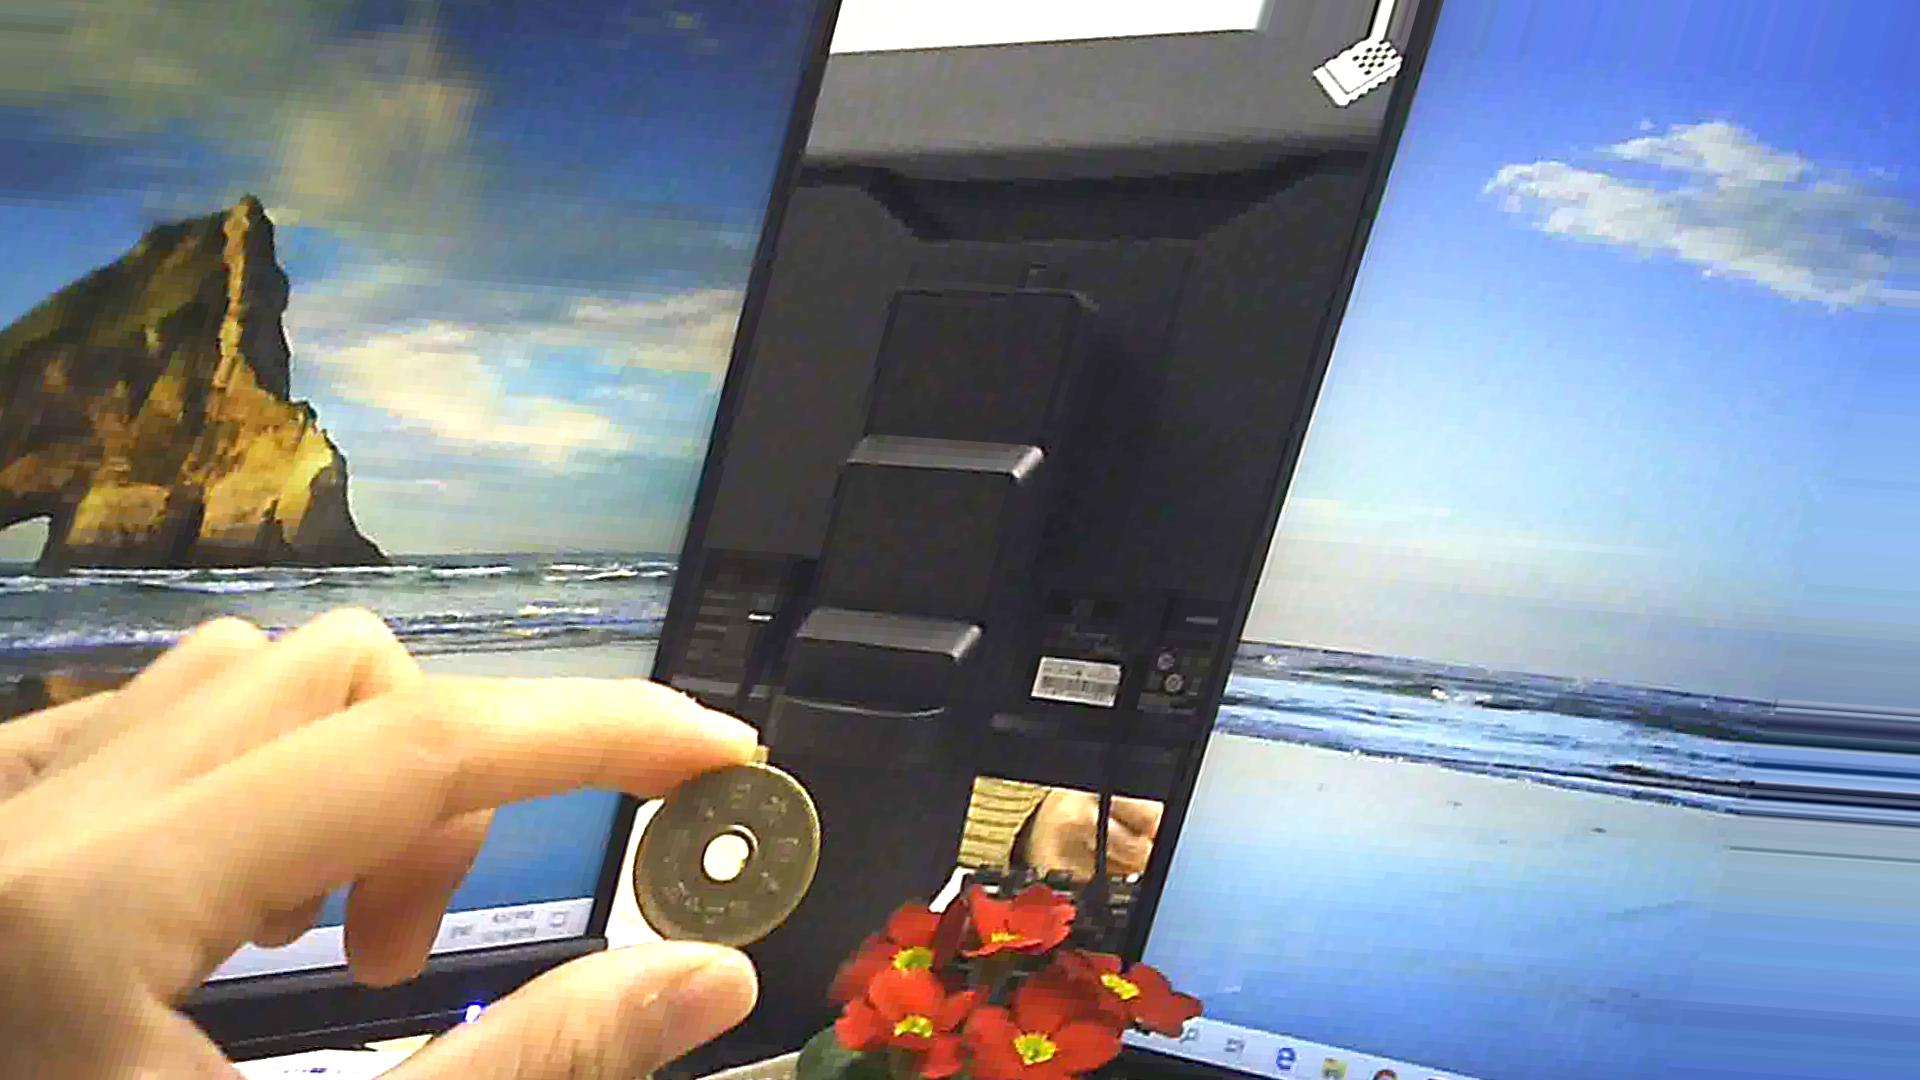5 Yen: (617, 752, 815, 963)
